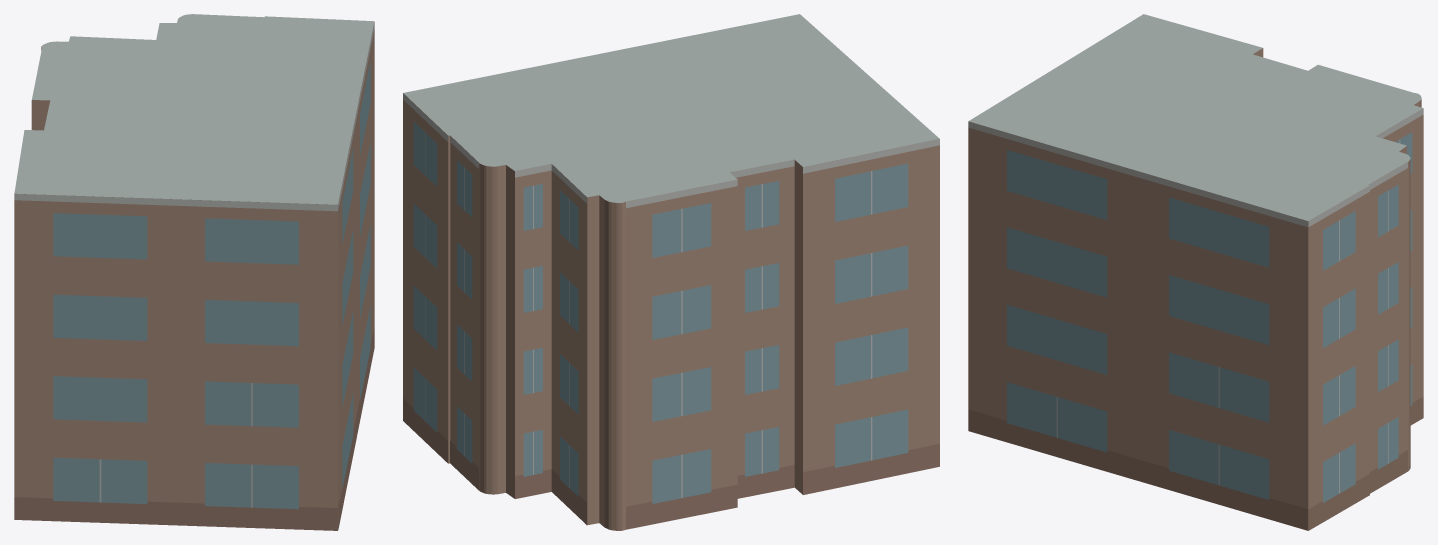
Rendered from survey-upis-32916653.glb.
3 renders of one model, left to right at view 1: azimuth 30°, elevation 25°; view 2: azimuth 150°, elevation 25°; view 3: azimuth 270°, elevation 25°, orthographic. The views are drawn at different scales.
Parts seen in each view (by area): view 1: survey-upis-32916653.tmp; view 2: survey-upis-32916653.tmp; view 3: survey-upis-32916653.tmp.
Part boxes in pixels (<box>): survey-upis-32916653.tmp: <box>14,14,374,530</box>; survey-upis-32916653.tmp: <box>403,14,939,530</box>; survey-upis-32916653.tmp: <box>968,14,1423,530</box>.
Size of the model in its own units: 17.51 by 12.2 by 16.26.
